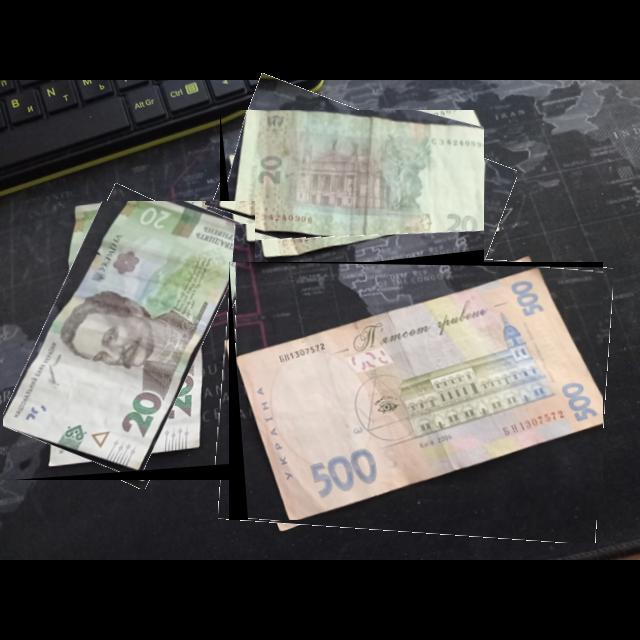20uah: (3, 201, 256, 474), (230, 110, 485, 254)
500uah: (235, 266, 604, 521)
